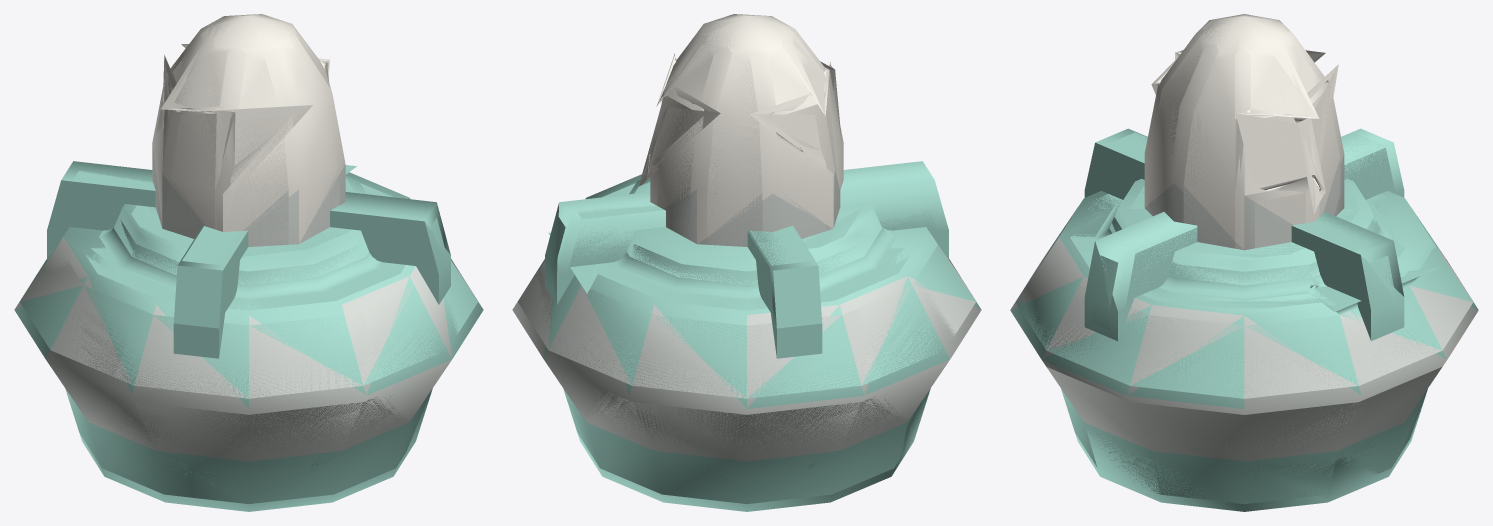
File: tower-defense-kit__enemy-ufo-b.glb
3 renders of one model, left to right at view 1: azimuth 30°, elevation 25°; view 2: azimuth 150°, elevation 25°; view 3: azimuth 270°, elevation 25°, orthographic.
Visible parts, largest first — view 1: L0_accent, L1_accent, L1_metal, L0_metal, L1_ivory, L0_ivory; view 2: L0_accent, L1_accent, L0_metal, L1_metal, L1_ivory, L0_ivory; view 3: L1_accent, L0_accent, L0_metal, L0_ivory, L1_metal, L1_ivory.
Part boxes in pixels (<box>): L0_accent: <box>20,165,477,503</box>; L1_accent: <box>14,161,483,511</box>; L1_metal: <box>14,142,451,460</box>; L0_metal: <box>20,168,472,461</box>; L1_ivory: <box>152,14,345,243</box>; L0_ivory: <box>156,15,338,231</box>; L0_accent: <box>523,182,975,503</box>; L1_accent: <box>538,161,981,511</box>; L0_metal: <box>518,171,975,461</box>; L1_metal: <box>512,175,981,460</box>; L1_ivory: <box>650,14,843,243</box>; L0_ivory: <box>638,15,842,236</box>; L1_accent: <box>1010,128,1478,511</box>; L0_accent: <box>1015,132,1472,503</box>; L0_metal: <box>1016,158,1473,461</box>; L0_ivory: <box>1148,15,1340,240</box>; L1_metal: <box>1010,154,1478,460</box>; L1_ivory: <box>1144,14,1344,249</box>.
Bounding box in the file's own units: 1 × 1 × 1.
